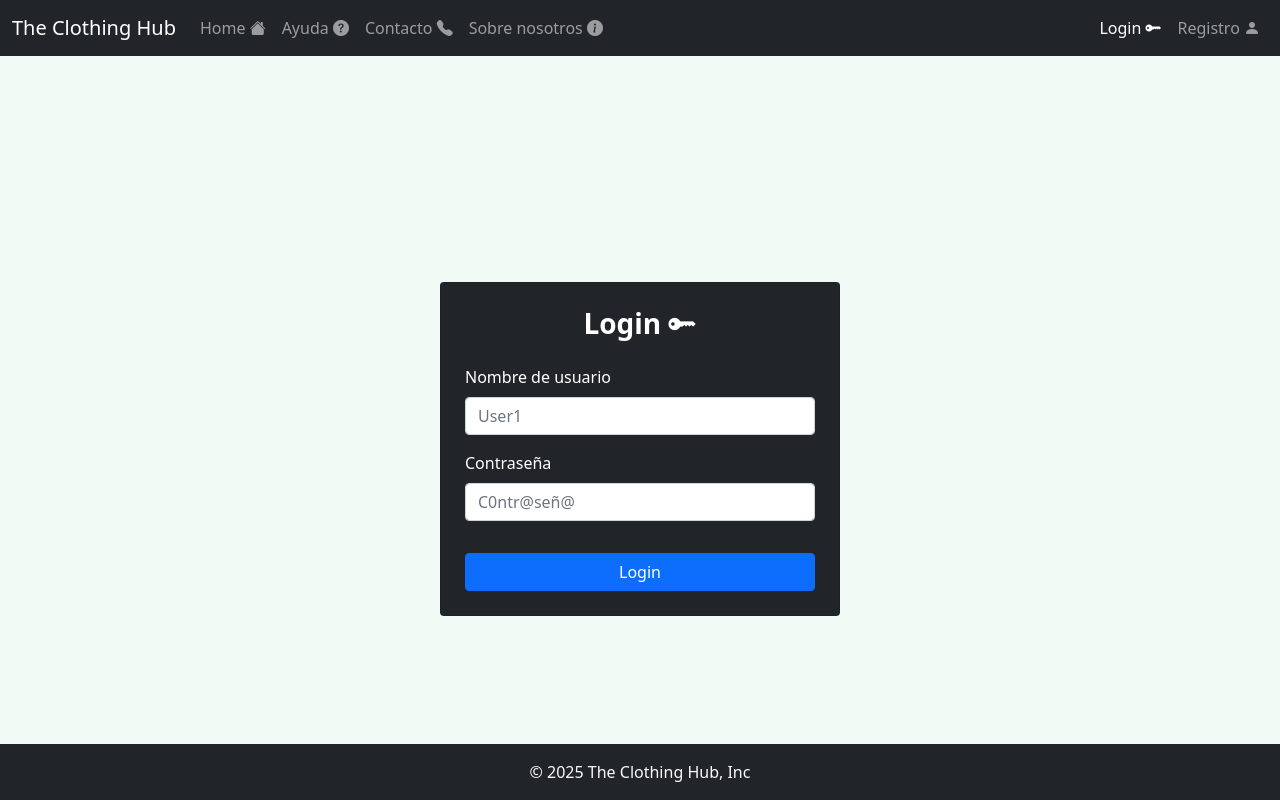
Scenario: Tests de la aplicación › Página de Login › Verifica Accesos › Debe mostrar toast de error con vendedor
Type "Vendor1" into the field with id "username" at (640, 416), box [465,397,815,435]
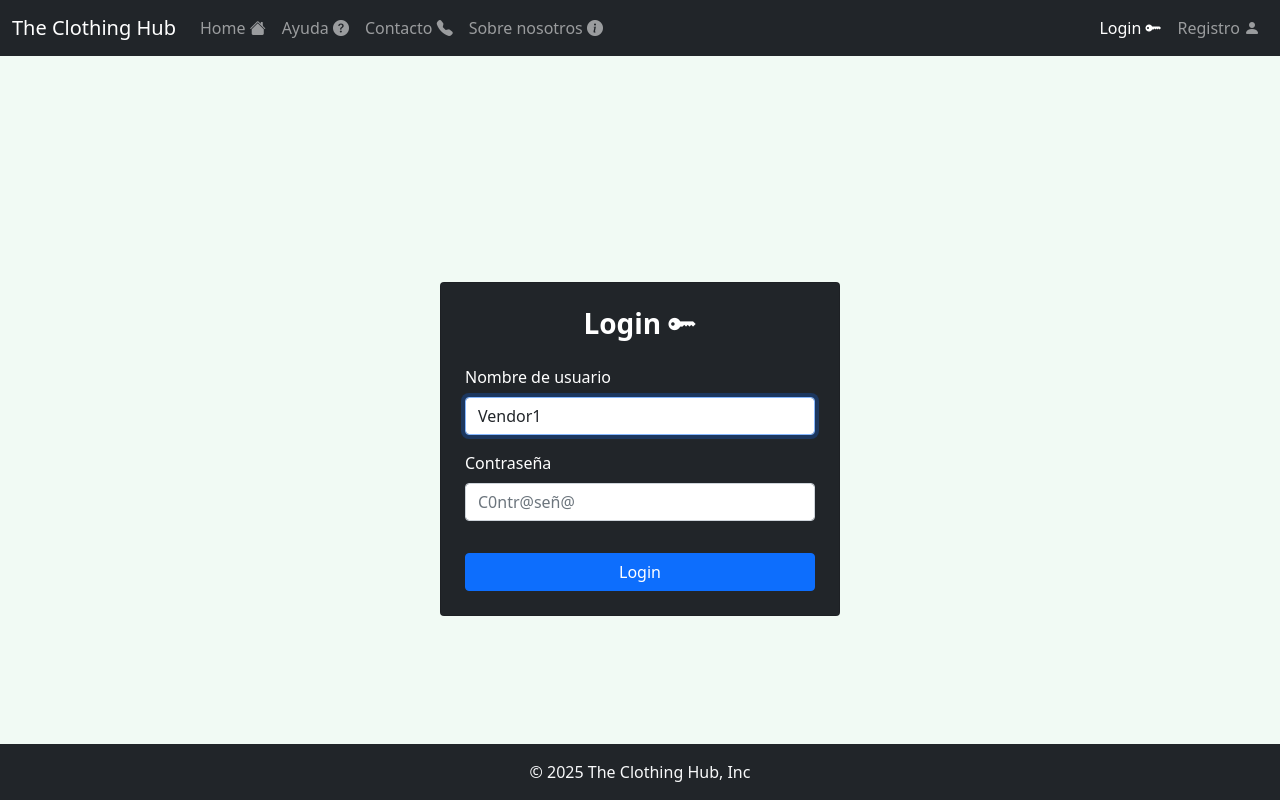
Type "pass" into the password field labelled "Contraseña" at (640, 502), box [465,483,815,521]
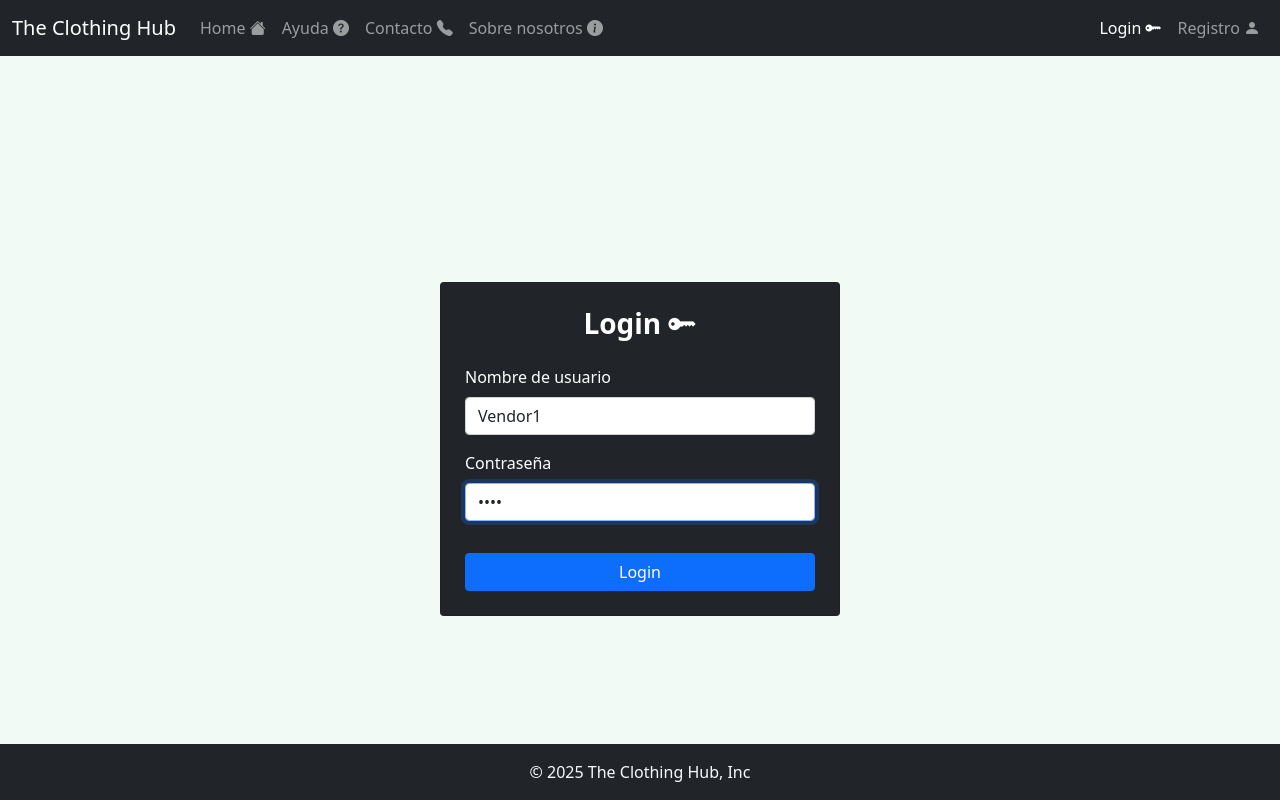
Click the button with id "btnLogin" at (640, 572), box [465,553,815,591]
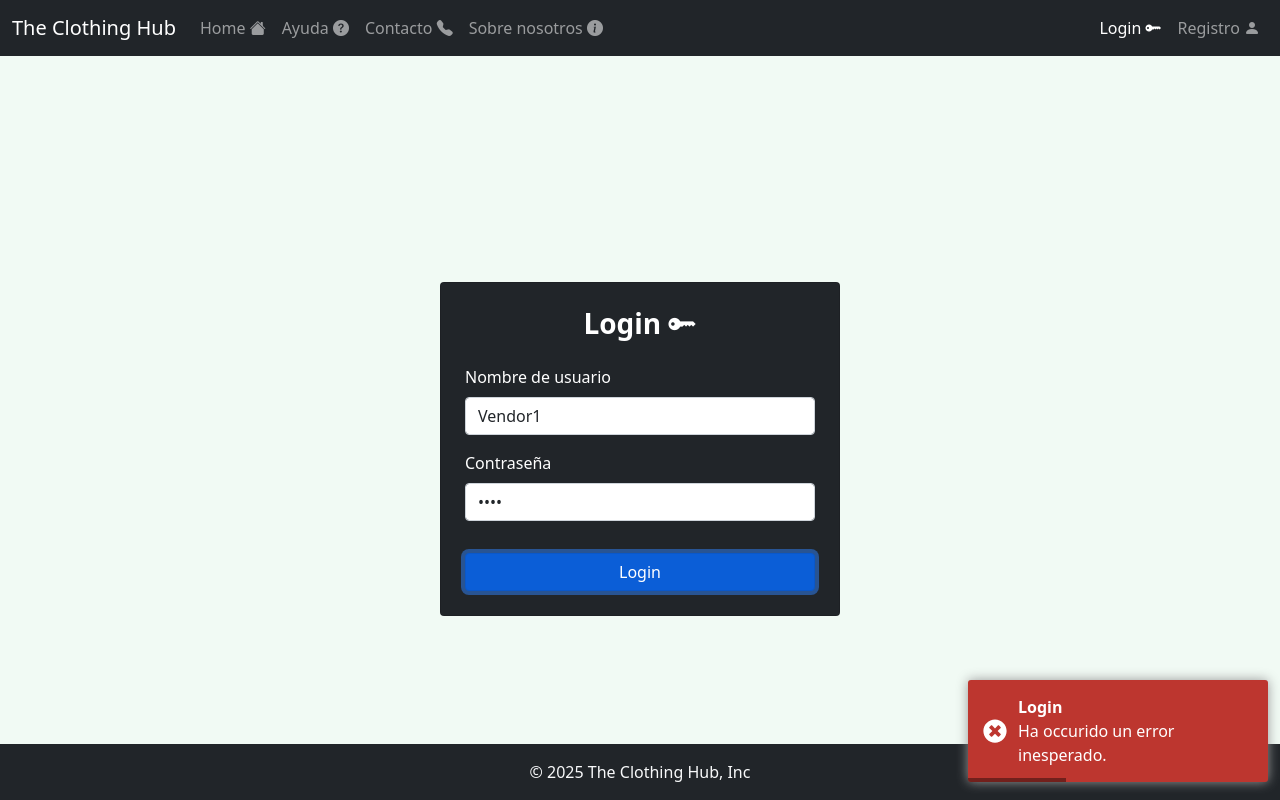
Expected: the element showing "Login Ha occurido un error inesperado." is shown, [968,680,1268,782]
